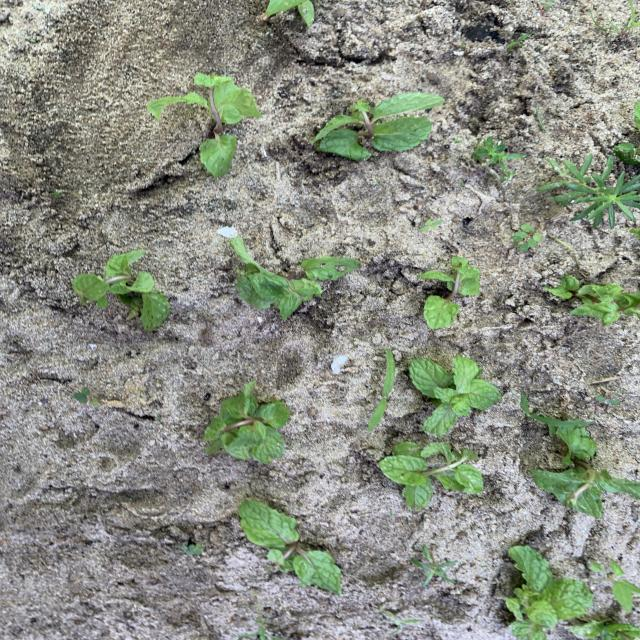crop: (148, 74, 260, 176), (230, 237, 360, 319), (531, 427, 640, 518), (240, 501, 342, 593), (313, 93, 443, 159), (507, 546, 593, 639), (73, 250, 170, 330), (410, 355, 501, 435), (380, 442, 483, 508), (204, 383, 289, 462), (549, 276, 640, 326), (420, 258, 479, 328), (613, 140, 639, 163)
weed: (538, 155, 639, 226), (521, 396, 595, 434), (588, 559, 640, 613), (368, 349, 395, 430), (474, 137, 523, 179), (413, 545, 455, 586), (377, 606, 419, 633), (513, 224, 542, 250), (556, 237, 581, 267), (73, 387, 100, 404), (507, 33, 532, 51), (179, 543, 203, 555), (420, 219, 442, 231), (595, 396, 619, 405), (336, 607, 355, 618), (538, 1, 555, 10)
